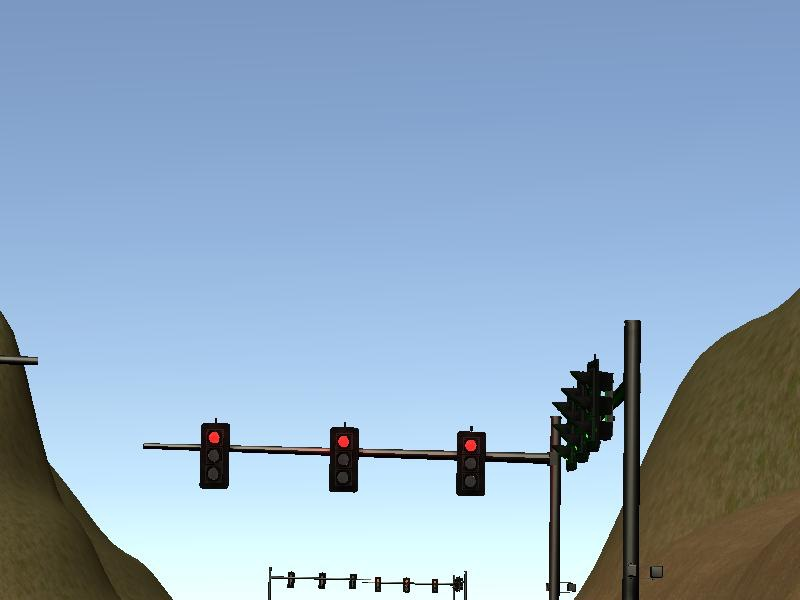Red: (198, 421, 232, 490), (327, 426, 361, 495), (454, 430, 488, 499)
